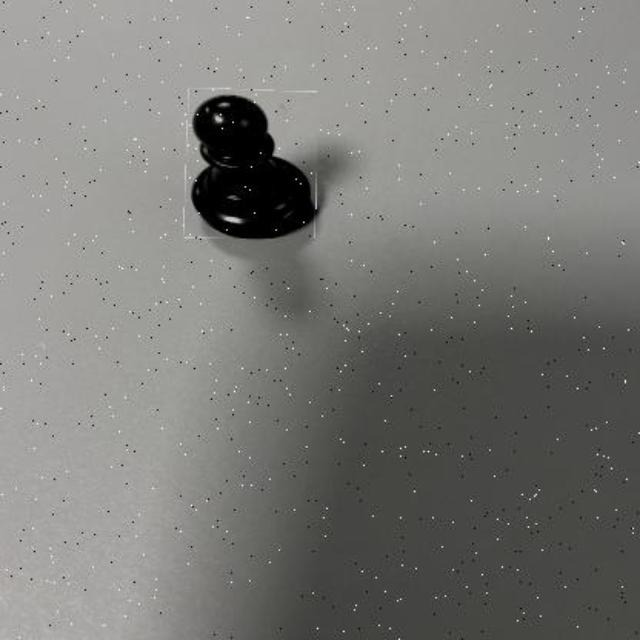black-pawn: (186, 89, 318, 239)
